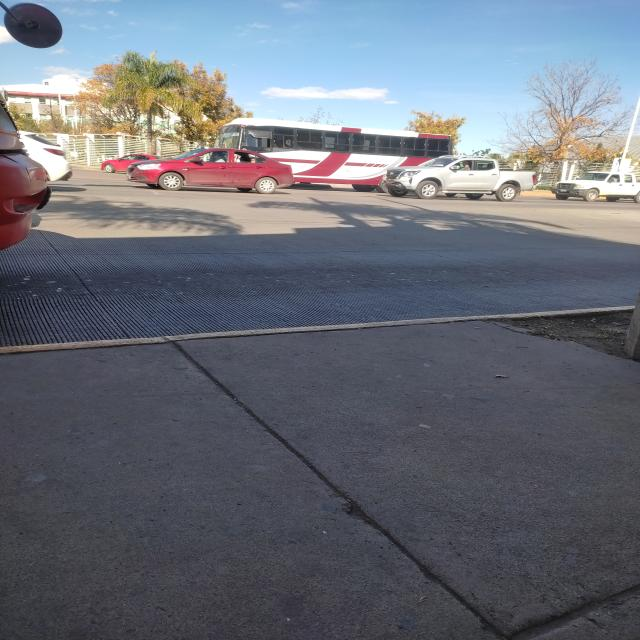Auto: (128, 139, 297, 197), (382, 153, 540, 205), (16, 125, 95, 195), (554, 152, 640, 216), (99, 142, 164, 182)
Autobus: (2, 6, 90, 264), (218, 110, 458, 194)
